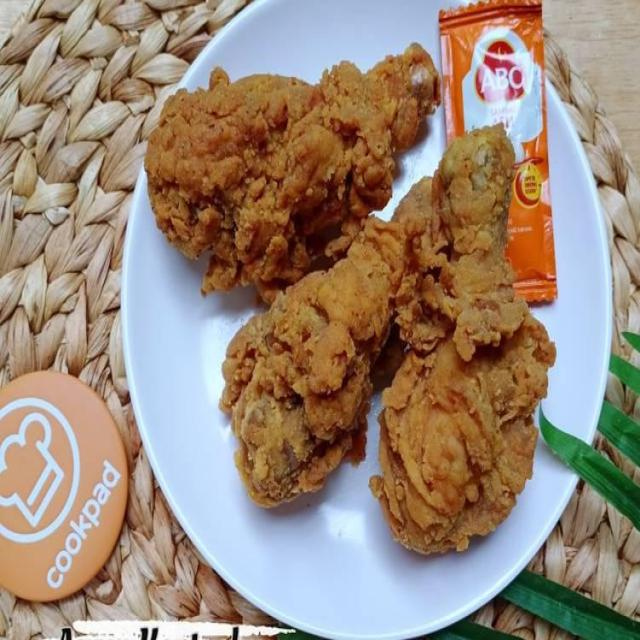Frango: (374, 123, 543, 557), (222, 173, 436, 505), (147, 41, 443, 273)
